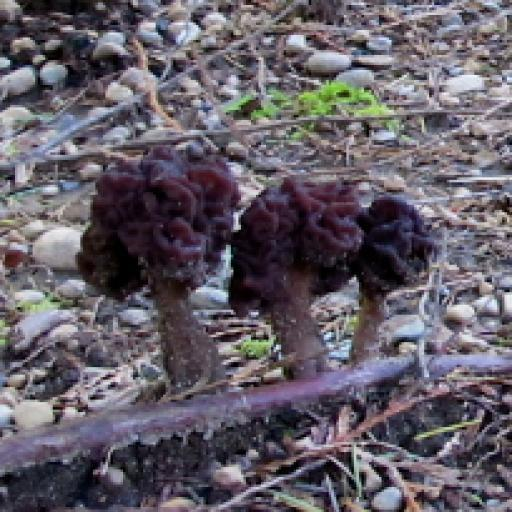mushroom: (67, 141, 244, 396), (199, 158, 377, 386), (352, 195, 439, 364)
